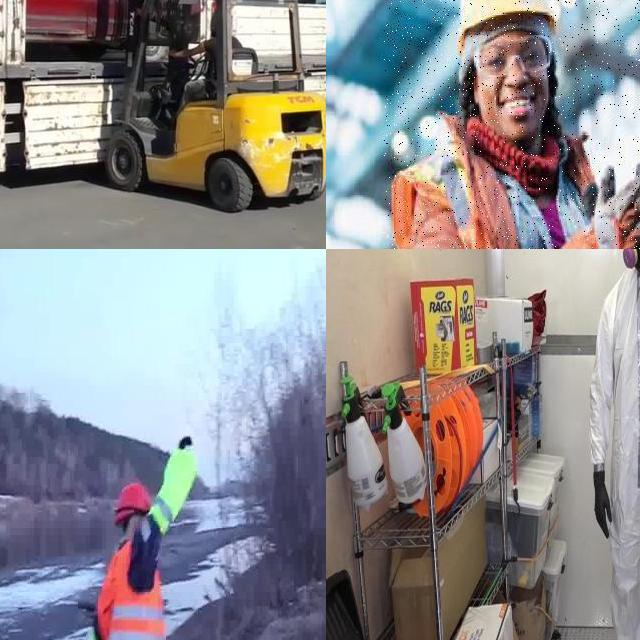GLASS: (471, 32, 554, 76)
GLOVE: (585, 162, 640, 249), (592, 471, 613, 538)
HELMET: (458, 0, 559, 47), (114, 481, 154, 526)
VEST: (391, 138, 637, 249), (97, 554, 169, 640), (150, 444, 196, 542)
